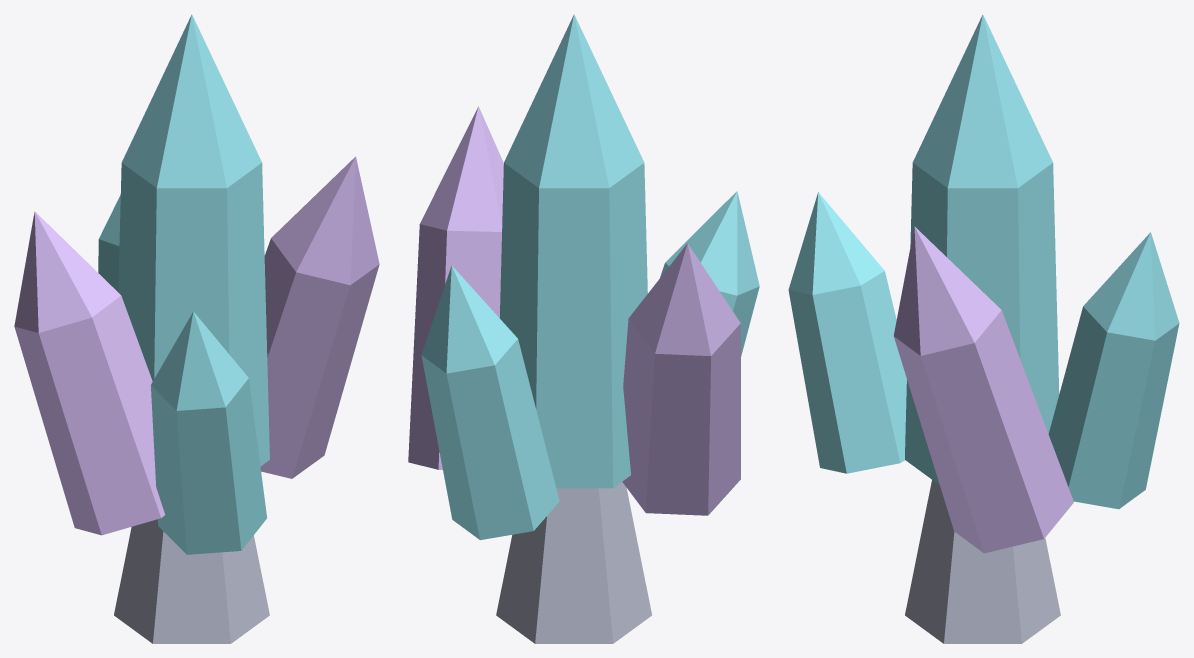
Rendered from CF_TreeCrystal.fbx.
3 views of the same model, side by side, from view 1: azimuth 30°, elevation 25°; view 2: azimuth 150°, elevation 25°; view 3: azimuth 270°, elevation 25° (orthographic).
Visible parts, largest first — view 1: CF_TreeCrystal_Crystal, CF_TreeCrystal_CrystalB, CF_TreeCrystal_Stem; view 2: CF_TreeCrystal_Crystal, CF_TreeCrystal_CrystalB, CF_TreeCrystal_Stem; view 3: CF_TreeCrystal_Crystal, CF_TreeCrystal_CrystalB, CF_TreeCrystal_Stem.
Part boxes in pixels (x1,y1,x2,y2): CF_TreeCrystal_Crystal: (98,14,269,554); CF_TreeCrystal_CrystalB: (14,156,379,535); CF_TreeCrystal_Stem: (114,519,269,643); CF_TreeCrystal_Crystal: (421,14,759,540); CF_TreeCrystal_CrystalB: (408,106,740,515); CF_TreeCrystal_Stem: (496,482,651,643); CF_TreeCrystal_Crystal: (788,14,1179,509); CF_TreeCrystal_CrystalB: (893,226,1073,553); CF_TreeCrystal_Stem: (905,480,1060,643).
Bounding box in the file's own units: 4.71 × 8.5 × 5.01.
